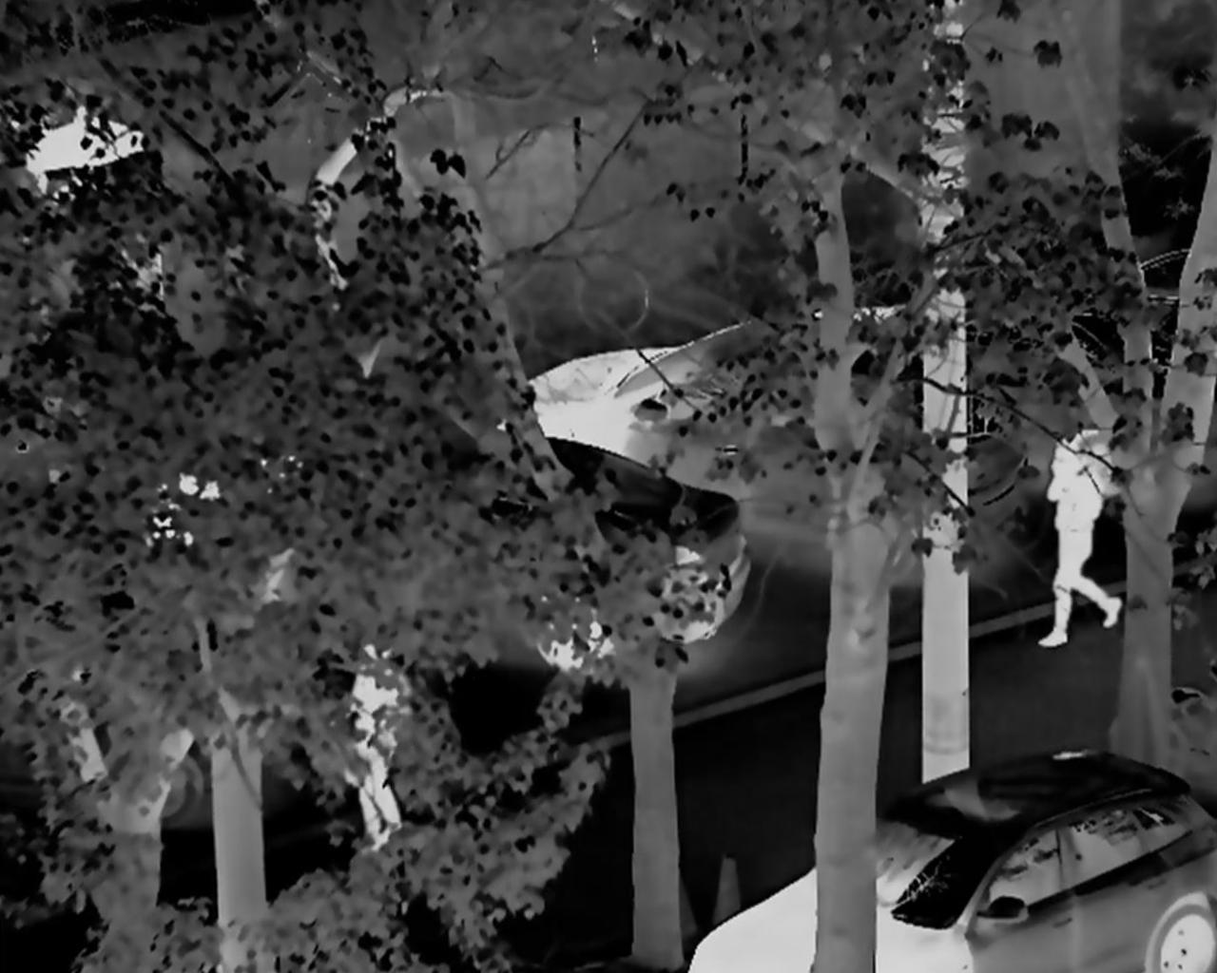person: (1042, 423, 1124, 658), (325, 634, 405, 839)
